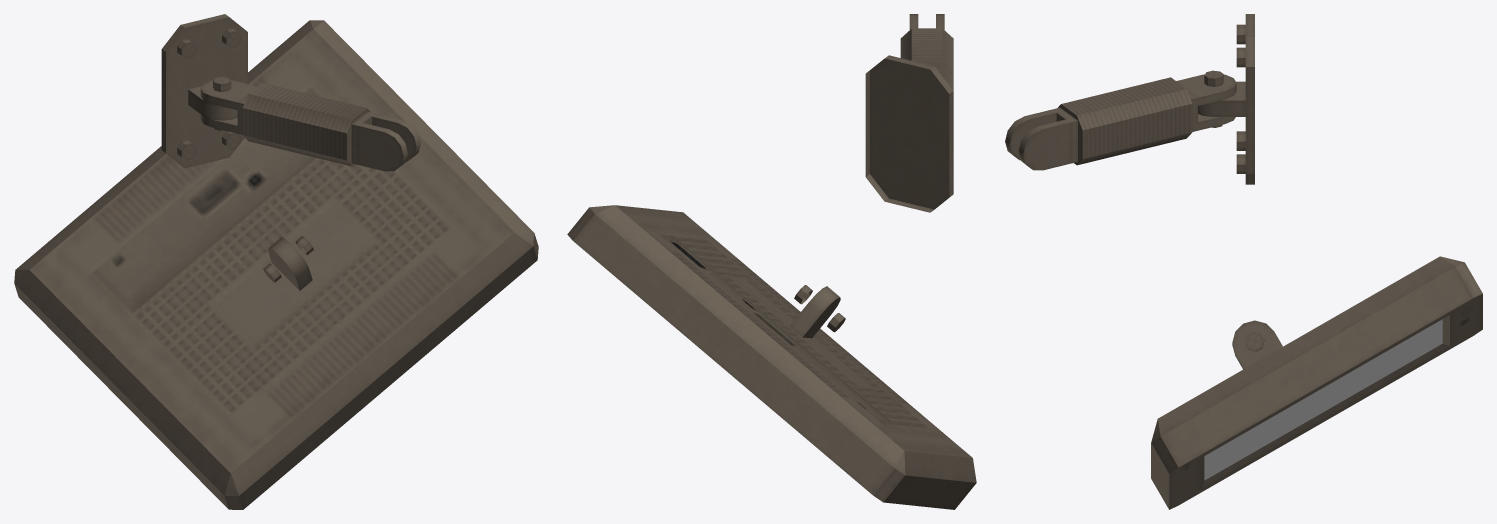
Rendered from monitoring_screen_mp_1.fbx.
3 views of the same model, side by side, from view 1: azimuth 30°, elevation 25°; view 2: azimuth 150°, elevation 25°; view 3: azimuth 270°, elevation 25° (orthographic). The views are drawn at different scales.
Parts seen in each view (by area): view 1: monitoring_screen_mp_1_display, monitoring_screen_mp_1_arm, monitoring_screen_mp_1; view 2: monitoring_screen_mp_1_display, monitoring_screen_mp_1, monitoring_screen_mp_1_arm; view 3: monitoring_screen_mp_1_display, monitoring_screen_mp_1_arm, monitoring_screen_mp_1.
Part boxes in pixels (box(x1,y1,x2,y2)): monitoring_screen_mp_1_display: box(14, 20, 538, 509); monitoring_screen_mp_1_arm: box(200, 76, 420, 171); monitoring_screen_mp_1: box(161, 14, 247, 168); monitoring_screen_mp_1_display: box(567, 205, 976, 509); monitoring_screen_mp_1: box(865, 55, 953, 212); monitoring_screen_mp_1_arm: box(900, 14, 953, 90); monitoring_screen_mp_1_display: box(1151, 256, 1482, 509); monitoring_screen_mp_1_arm: box(1005, 70, 1236, 170); monitoring_screen_mp_1: box(1198, 14, 1254, 184).
Bounding box in the file's own units: 0.527 × 0.5913 × 0.5277.
